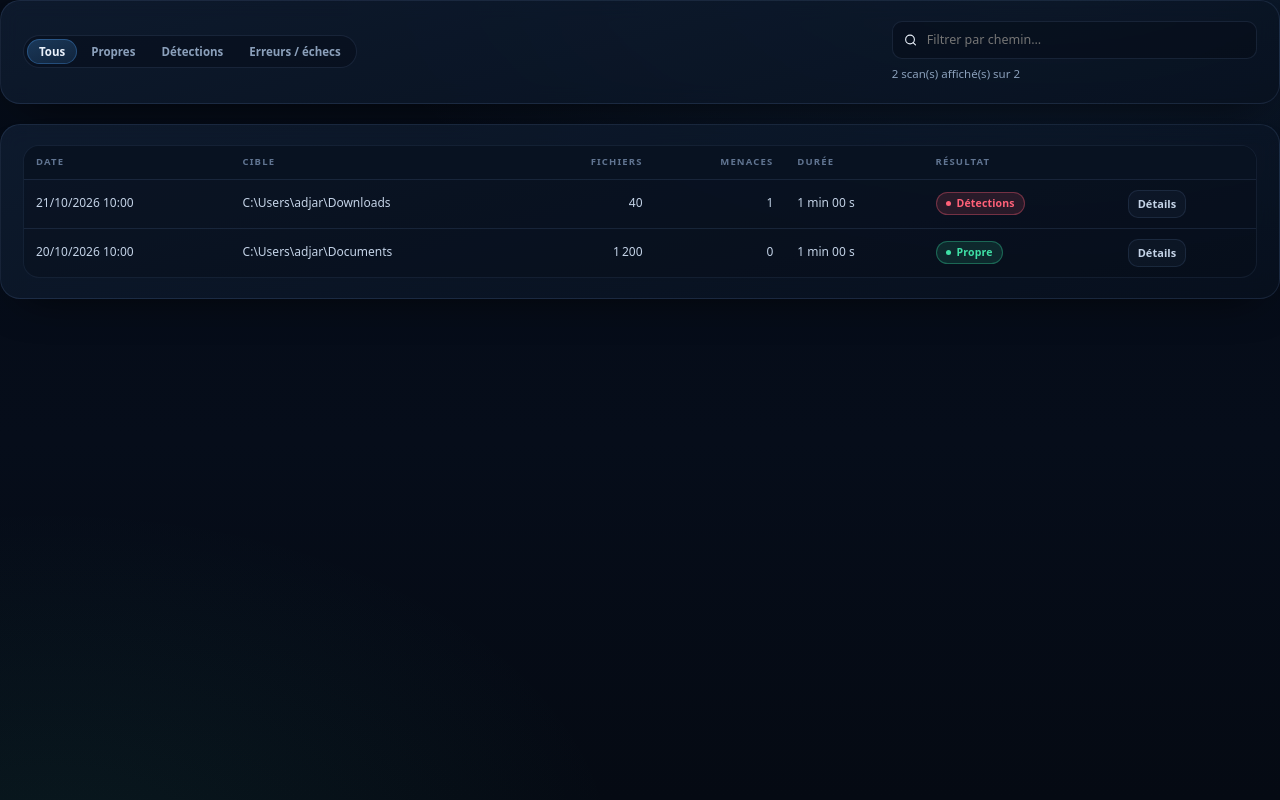
History › renders the persisted scans and filters them by outcome
The image size is (1280, 800).
Check: the text "C:\\Users\\adjar\\Documents" is shown, box [231,228,526,276]
Check: the text "2 scan(s) affiché(s) sur 2" is shown, box [892,65,1020,83]
Step 1. Click the button "Propres" → x=113, y=52, box [79,39,147,64]
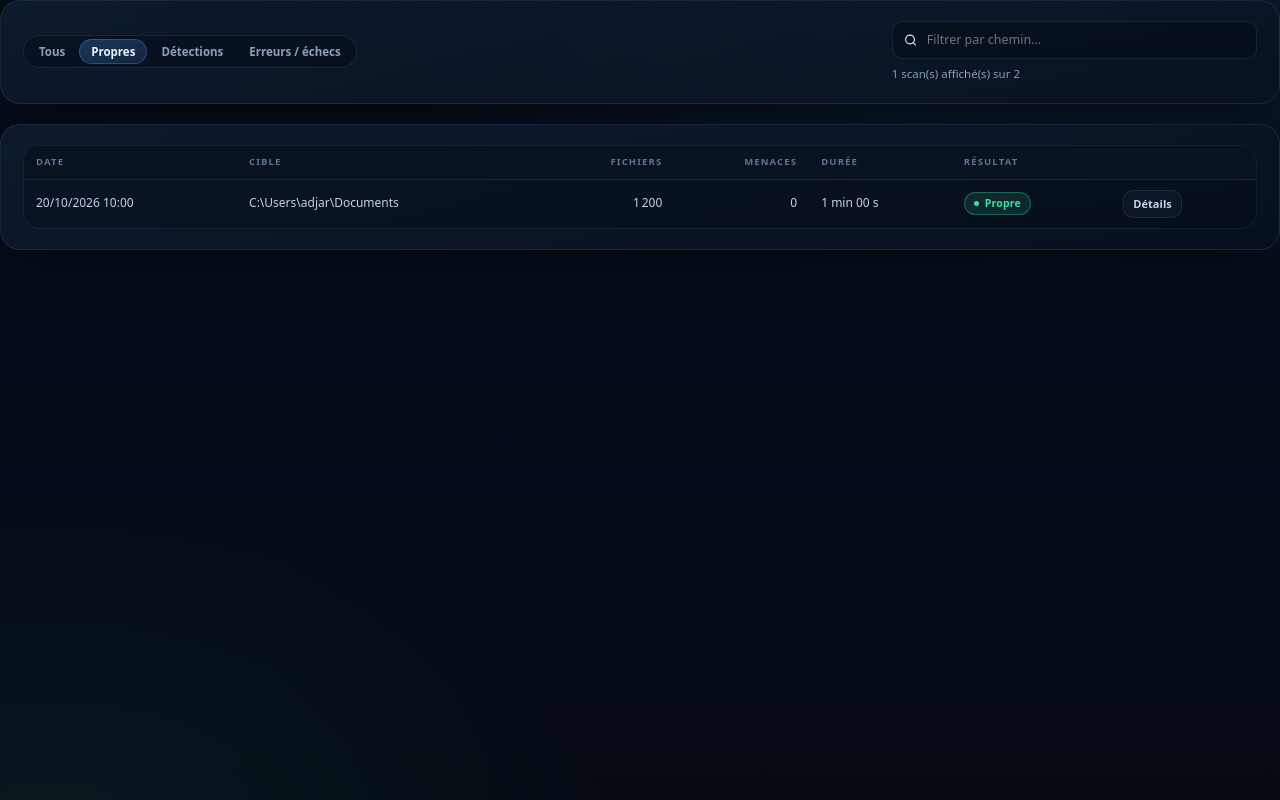
Check: the text "C:\\Users\\adjar\\Downloads" is gone
Check: the text "1 scan(s) affiché(s) sur 2" is shown, box [892,65,1020,83]
